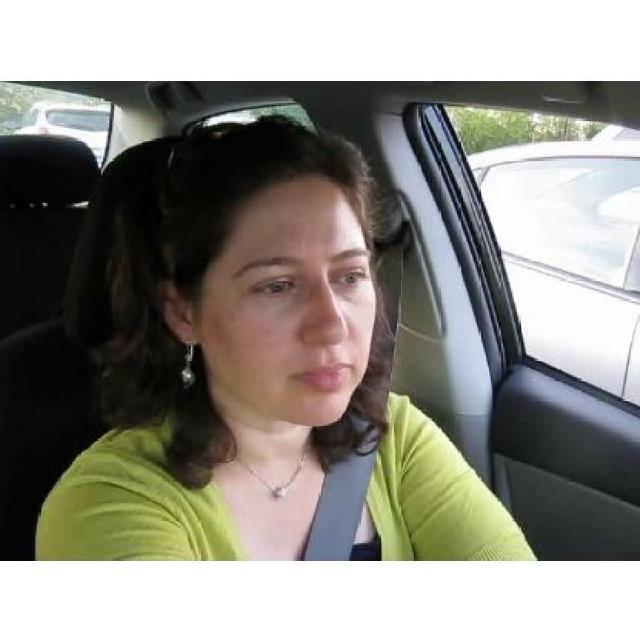attentif: (158, 117, 377, 426)
